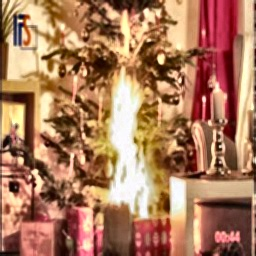fire: (99, 59, 177, 217)
